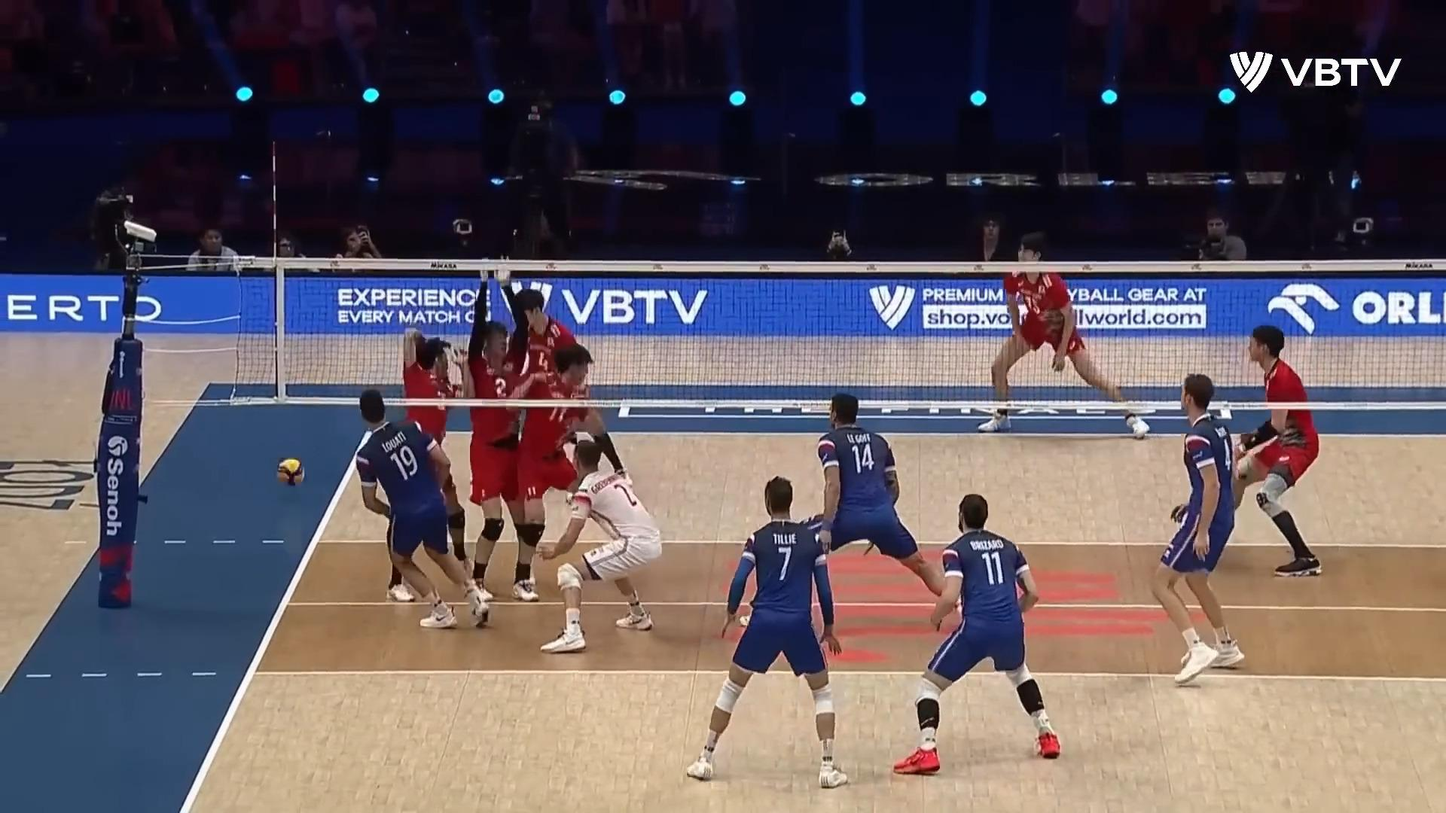ball: (276, 457, 307, 487)
